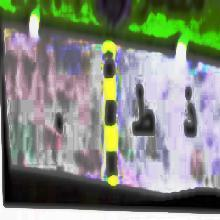0: (52, 105, 65, 139)
Taa: (131, 81, 157, 146)
zaal: (180, 83, 199, 146)
